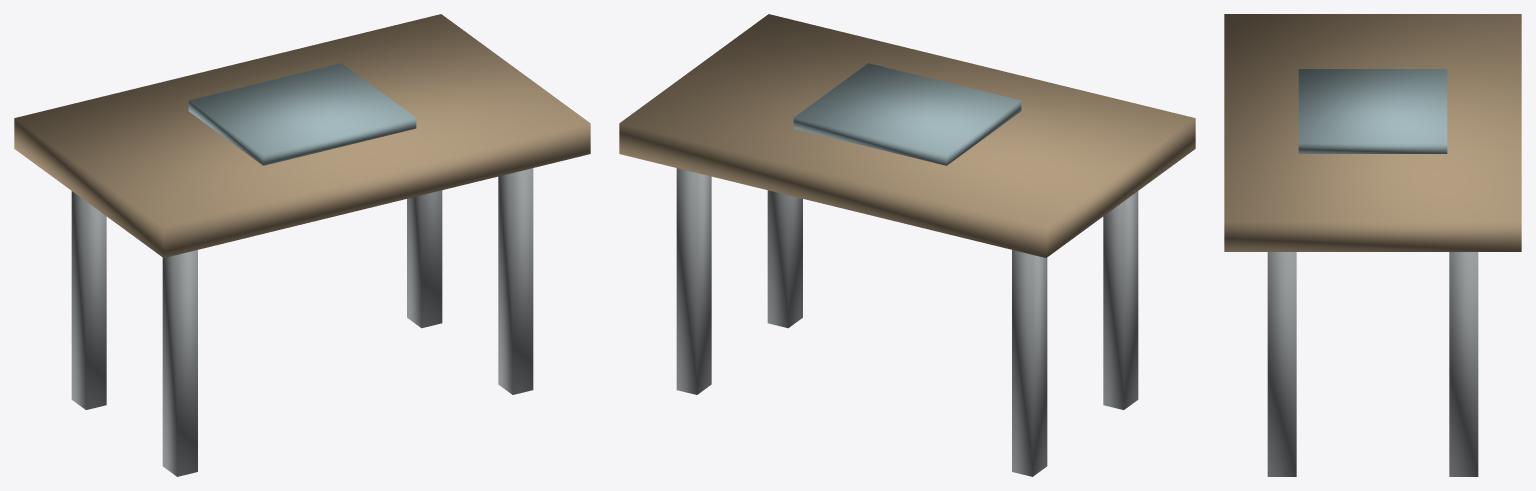
Rendered from material_inspection_table__deep.glb.
The picture shows the model from 3 angles, left to right: view 1: azimuth 30°, elevation 25°; view 2: azimuth 150°, elevation 25°; view 3: azimuth 270°, elevation 25°; orthographic projection.
Visible parts, largest first — view 1: world; view 2: world; view 3: world.
Boxes of the visible parts, bbox=[...] form: world: bbox=[14, 14, 590, 476]; world: bbox=[619, 14, 1195, 476]; world: bbox=[1224, 14, 1521, 476].
Size of the model in its own units: 1.45 by 0.9275 by 0.8784.
